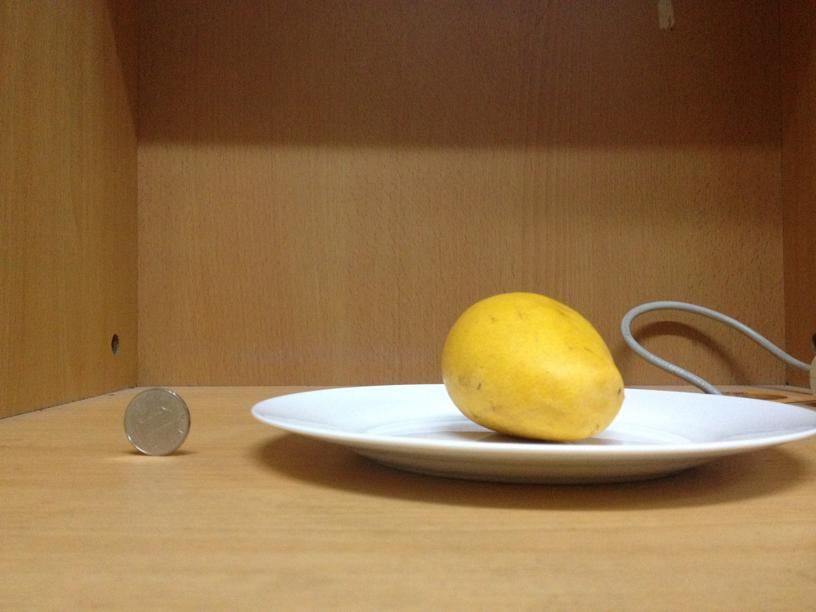coin: (124, 390, 190, 455)
mango: (438, 289, 625, 440)
